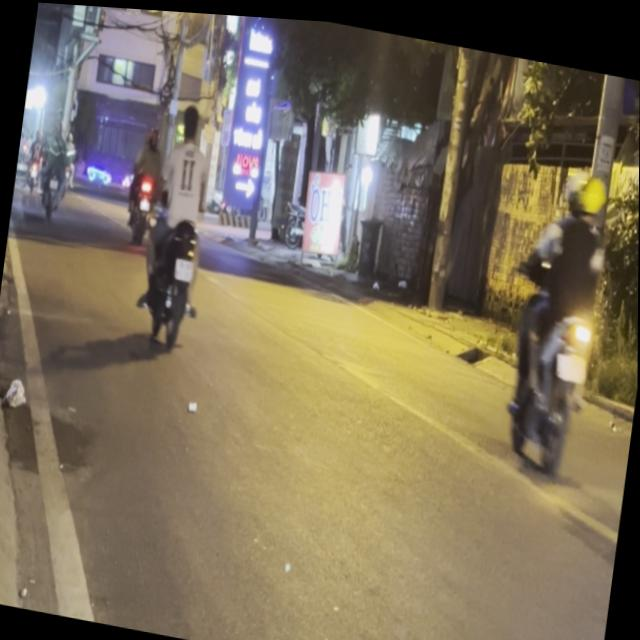helmet: (572, 162, 609, 219), (560, 157, 589, 210)
licenseplate: (496, 147, 621, 476), (131, 90, 224, 351)
motorcyclist: (180, 97, 204, 139)
nohelmet: (556, 341, 589, 374), (172, 254, 194, 279)
